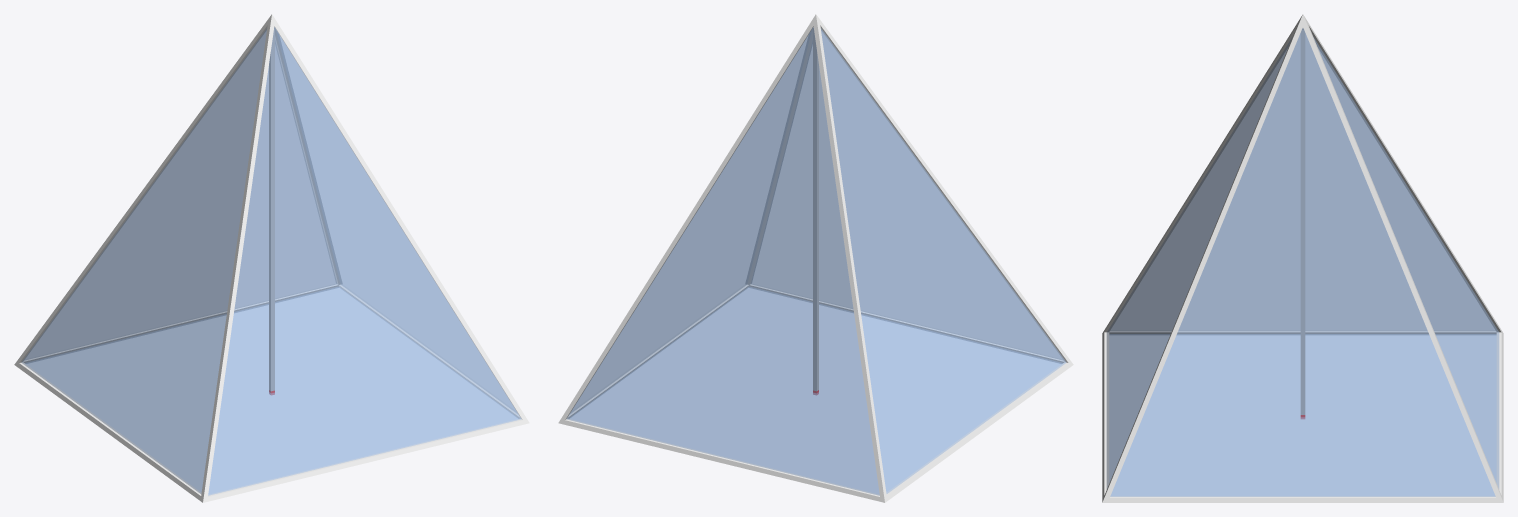
3 views of the same model, side by side, from view 1: azimuth 30°, elevation 25°; view 2: azimuth 150°, elevation 25°; view 3: azimuth 270°, elevation 25° (orthographic). The views are drawn at different scales.
Visible parts, largest first — view 1: Pir; view 2: Pir; view 3: Pir.
Part boxes in pixels (x1,y1,x2,y2): Pir: (14, 14, 529, 502); Pir: (558, 14, 1073, 502); Pir: (1102, 14, 1503, 502).
Bounding box in the file's own units: 41 × 45.58 × 41.
